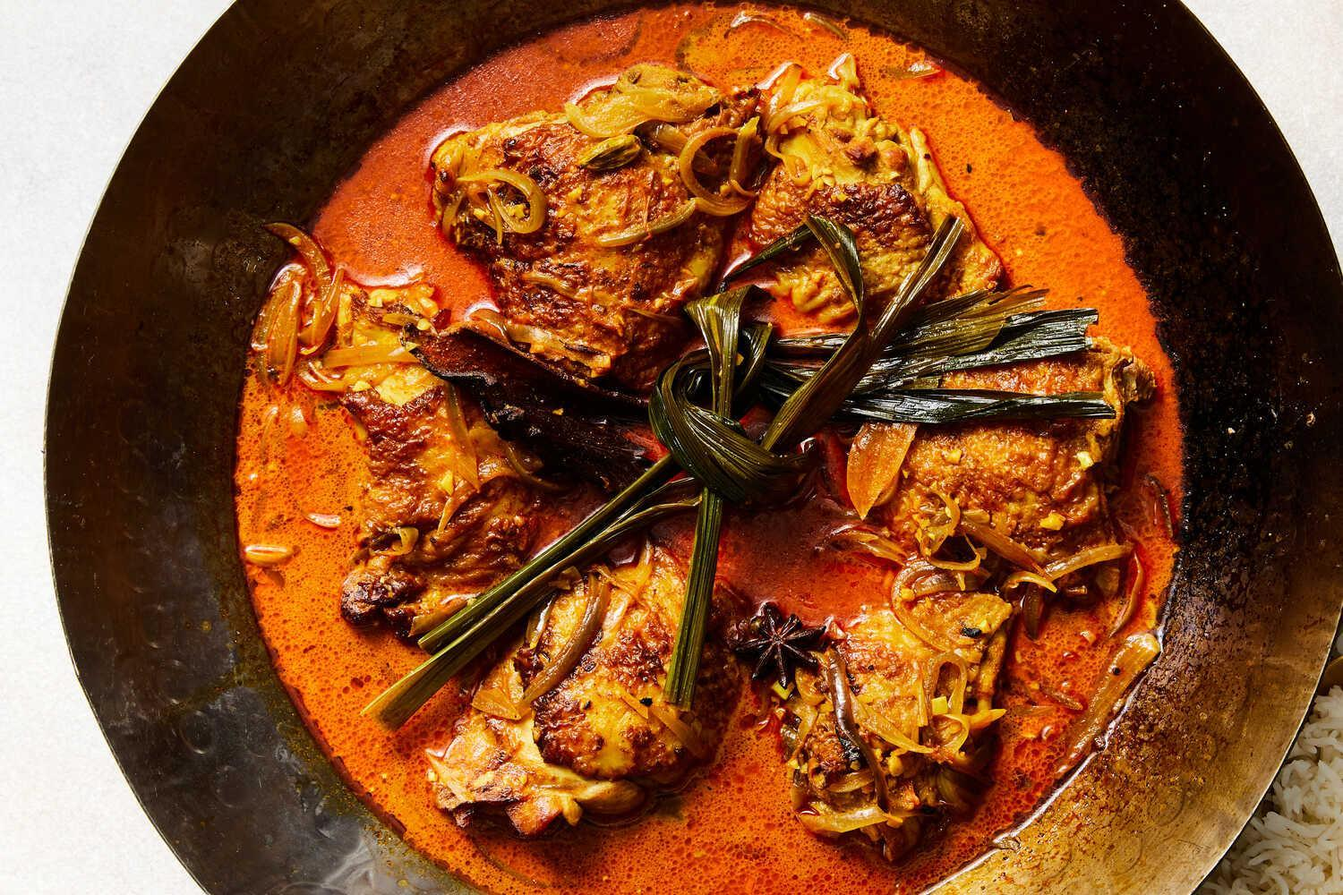chicken: (204, 82, 1155, 848)
